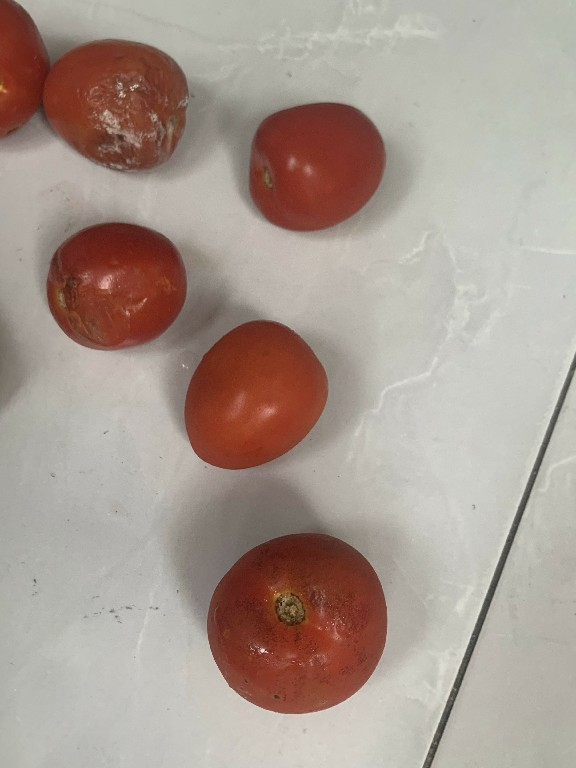NG: (38, 33, 197, 177), (36, 222, 189, 354)
OK: (182, 528, 397, 721), (175, 314, 332, 477), (236, 95, 404, 228)
